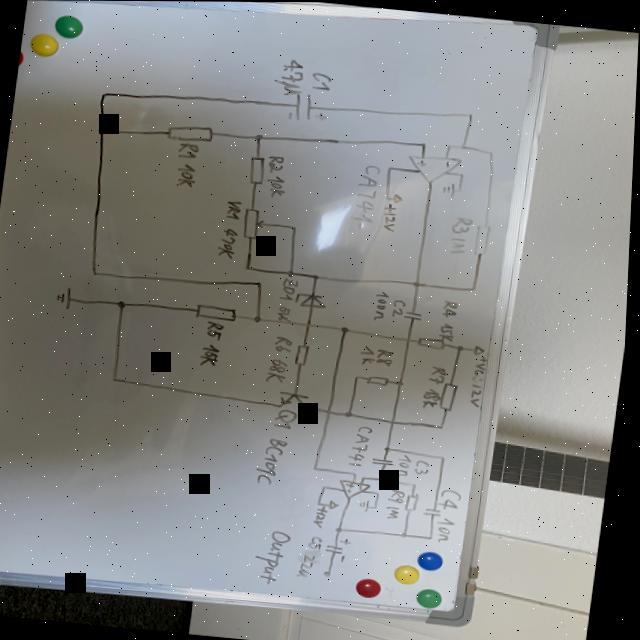capacitor: (284, 88, 331, 127), (329, 534, 358, 561), (374, 454, 401, 466), (405, 307, 427, 320), (427, 505, 448, 516)
crossover: (393, 417, 401, 424), (329, 406, 337, 413), (308, 320, 316, 327), (407, 334, 415, 341)
diode: (299, 290, 330, 308)
ground: (56, 283, 78, 310), (443, 180, 459, 195), (363, 496, 376, 511)
junction: (99, 88, 112, 98), (119, 297, 130, 308), (254, 132, 266, 141), (254, 313, 266, 322), (342, 324, 354, 333), (288, 267, 299, 276), (98, 126, 109, 135), (420, 139, 430, 147), (257, 278, 267, 286), (348, 408, 357, 416), (405, 529, 414, 537), (378, 487, 387, 495), (415, 279, 425, 286), (247, 262, 255, 270), (459, 343, 468, 350), (314, 271, 323, 278), (468, 109, 476, 116), (472, 284, 480, 291), (461, 142, 469, 149), (400, 377, 408, 384), (382, 474, 390, 481), (114, 374, 122, 381), (316, 463, 324, 470), (387, 163, 395, 170), (340, 524, 348, 531), (93, 268, 101, 275), (447, 140, 455, 147), (293, 222, 300, 229), (489, 148, 496, 155), (415, 480, 422, 487), (432, 533, 439, 540), (442, 422, 449, 428), (388, 444, 395, 450), (444, 453, 450, 459), (387, 192, 393, 198), (357, 373, 364, 378), (377, 503, 384, 508), (326, 483, 332, 488), (366, 474, 372, 478), (322, 500, 327, 504), (358, 470, 362, 474), (462, 171, 466, 175), (461, 186, 465, 190)
resistor: (166, 120, 217, 143), (197, 301, 242, 321), (473, 218, 495, 255), (244, 206, 268, 238), (248, 153, 269, 184), (441, 381, 462, 410), (420, 335, 450, 349), (297, 342, 314, 365), (408, 489, 425, 510), (370, 372, 394, 384)
source: (476, 343, 489, 354), (395, 191, 406, 202), (332, 499, 344, 508)
terminal: (327, 568, 338, 576)
text: (256, 524, 299, 585), (255, 433, 295, 487), (353, 162, 385, 227), (272, 55, 308, 95), (349, 422, 379, 467), (219, 224, 243, 258), (176, 158, 201, 187), (268, 356, 293, 383), (473, 351, 493, 382), (275, 406, 303, 428), (265, 173, 290, 197), (202, 341, 225, 367), (441, 486, 468, 508), (375, 288, 394, 319), (440, 514, 461, 540), (399, 451, 418, 479), (310, 69, 335, 90), (301, 552, 322, 577), (384, 202, 402, 231), (282, 275, 301, 302), (452, 213, 477, 233), (225, 197, 246, 219), (425, 385, 446, 407), (207, 318, 228, 340), (440, 319, 461, 340), (267, 152, 288, 173), (178, 140, 202, 158), (378, 345, 399, 365), (316, 503, 333, 527), (471, 381, 487, 406), (431, 364, 450, 385), (361, 343, 380, 364), (450, 234, 470, 253), (276, 334, 297, 352), (444, 297, 463, 316), (417, 457, 435, 474), (393, 297, 409, 316), (392, 486, 411, 502), (279, 303, 296, 320), (311, 533, 329, 548), (389, 503, 406, 518), (261, 235, 274, 244), (417, 157, 429, 166), (446, 158, 454, 167), (350, 480, 358, 487), (362, 483, 368, 489), (351, 487, 357, 492)
transistor: (278, 388, 314, 411)
